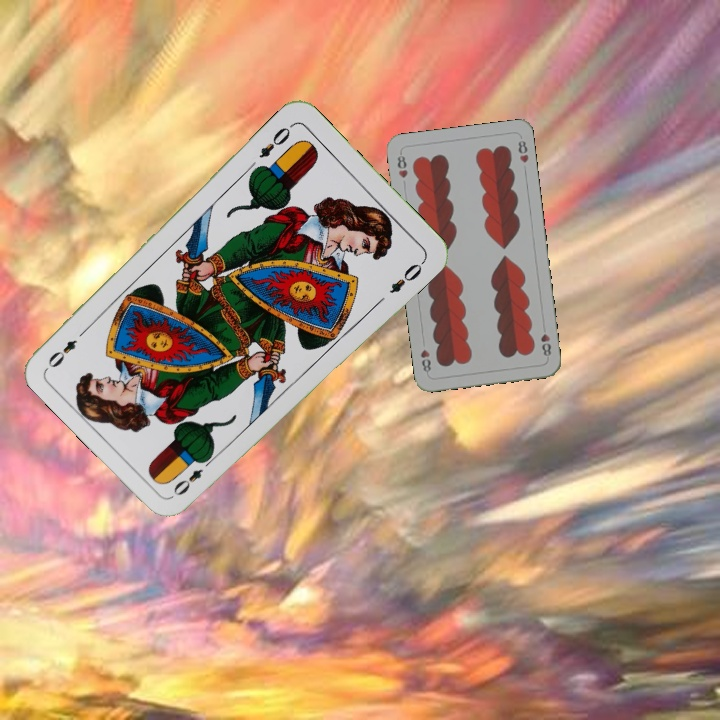EO: (169, 453, 216, 499), (255, 119, 297, 161)
H8: (537, 321, 553, 359), (393, 149, 410, 181)
